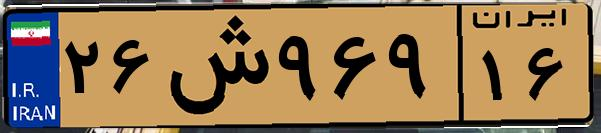1: (475, 38, 525, 113)
2: (57, 26, 110, 100)
6: (330, 28, 385, 110), (525, 38, 570, 115), (110, 28, 158, 98)
9: (270, 28, 330, 110), (385, 28, 445, 110)
ش: (158, 12, 270, 120)
